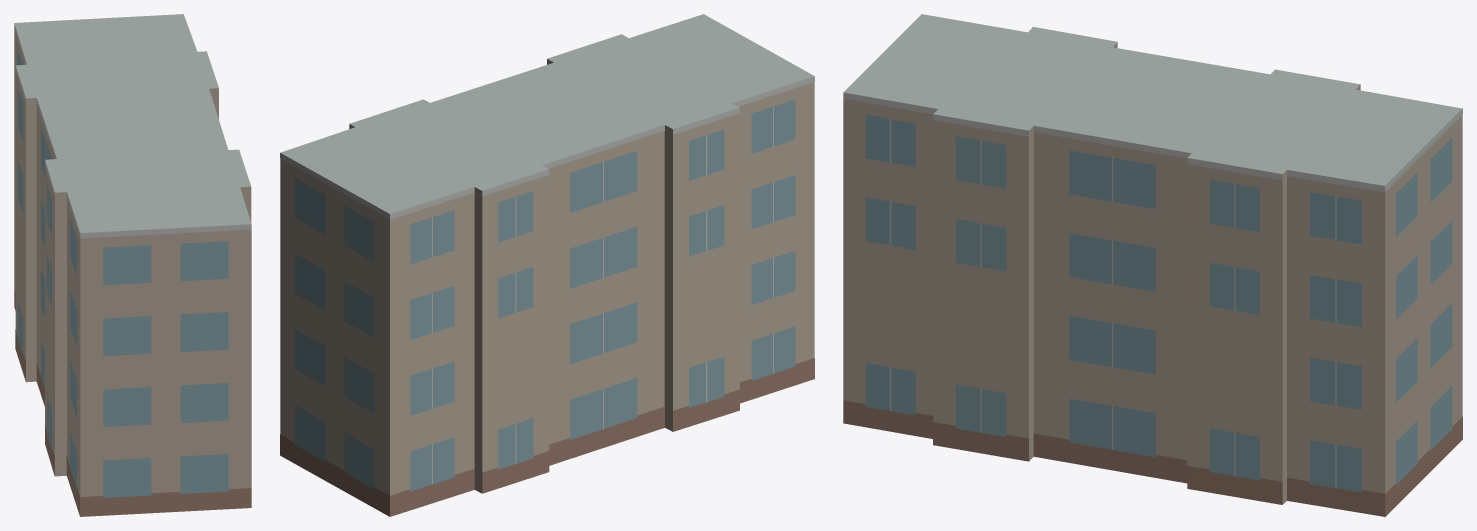
File: survey-upis-32747493.glb
The picture shows the model from 3 angles, left to right: view 1: azimuth 30°, elevation 25°; view 2: azimuth 150°, elevation 25°; view 3: azimuth 270°, elevation 25°; orthographic projection. The views are drawn at different scales.
Parts seen in each view (by area): view 1: survey-upis-32747493.tmp; view 2: survey-upis-32747493.tmp; view 3: survey-upis-32747493.tmp.
Boxes of the visible parts, box(x1,y1,x2,y2) form: survey-upis-32747493.tmp: box(14, 14, 251, 516); survey-upis-32747493.tmp: box(280, 14, 814, 516); survey-upis-32747493.tmp: box(843, 14, 1462, 516).
Bounding box in the file's own units: 14.39 × 12.9 × 21.9.
